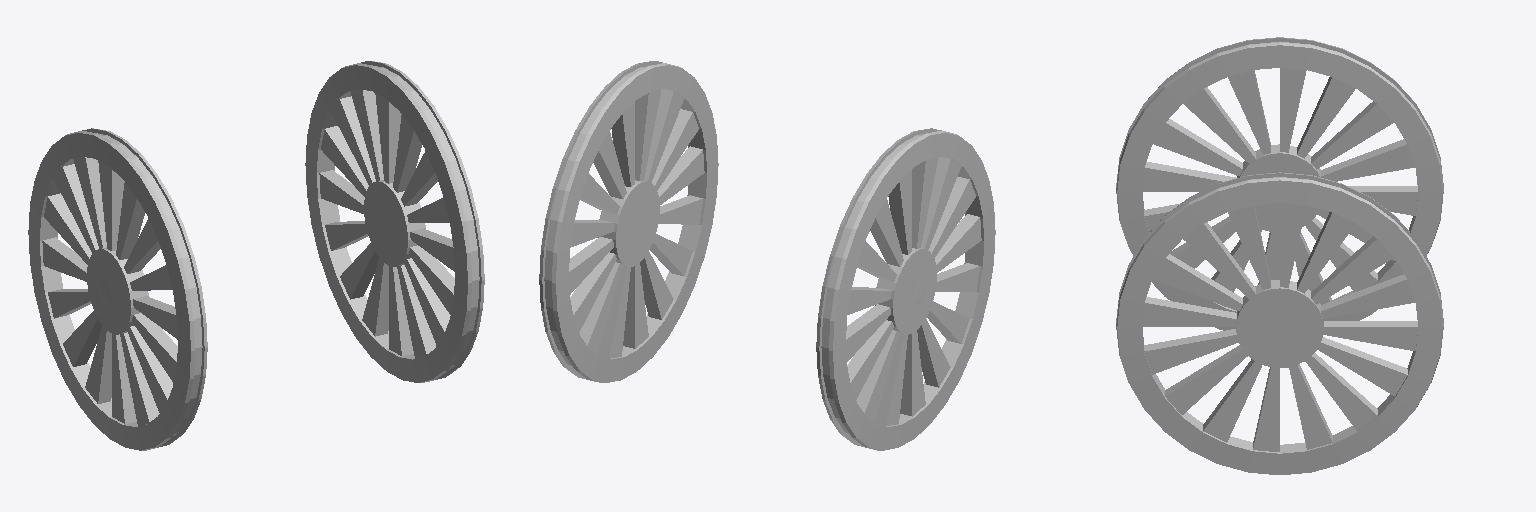
Rendered from roues_arriere_train.obj.
3 views of the same model, side by side, from view 1: azimuth 30°, elevation 25°; view 2: azimuth 150°, elevation 25°; view 3: azimuth 270°, elevation 25° (orthographic).
Parts seen in each view (by area): view 1: pCylinder245_blinnBlack_0; view 2: pCylinder245_blinnBlack_0; view 3: pCylinder245_blinnBlack_0.
Boxes of the visible parts, <box> form: pCylinder245_blinnBlack_0: <box>28,61,484,450</box>; pCylinder245_blinnBlack_0: <box>539,61,995,450</box>; pCylinder245_blinnBlack_0: <box>1116,37,1443,474</box>.
Bounding box in the file's own units: 3.97 × 3.71 × 3.71.